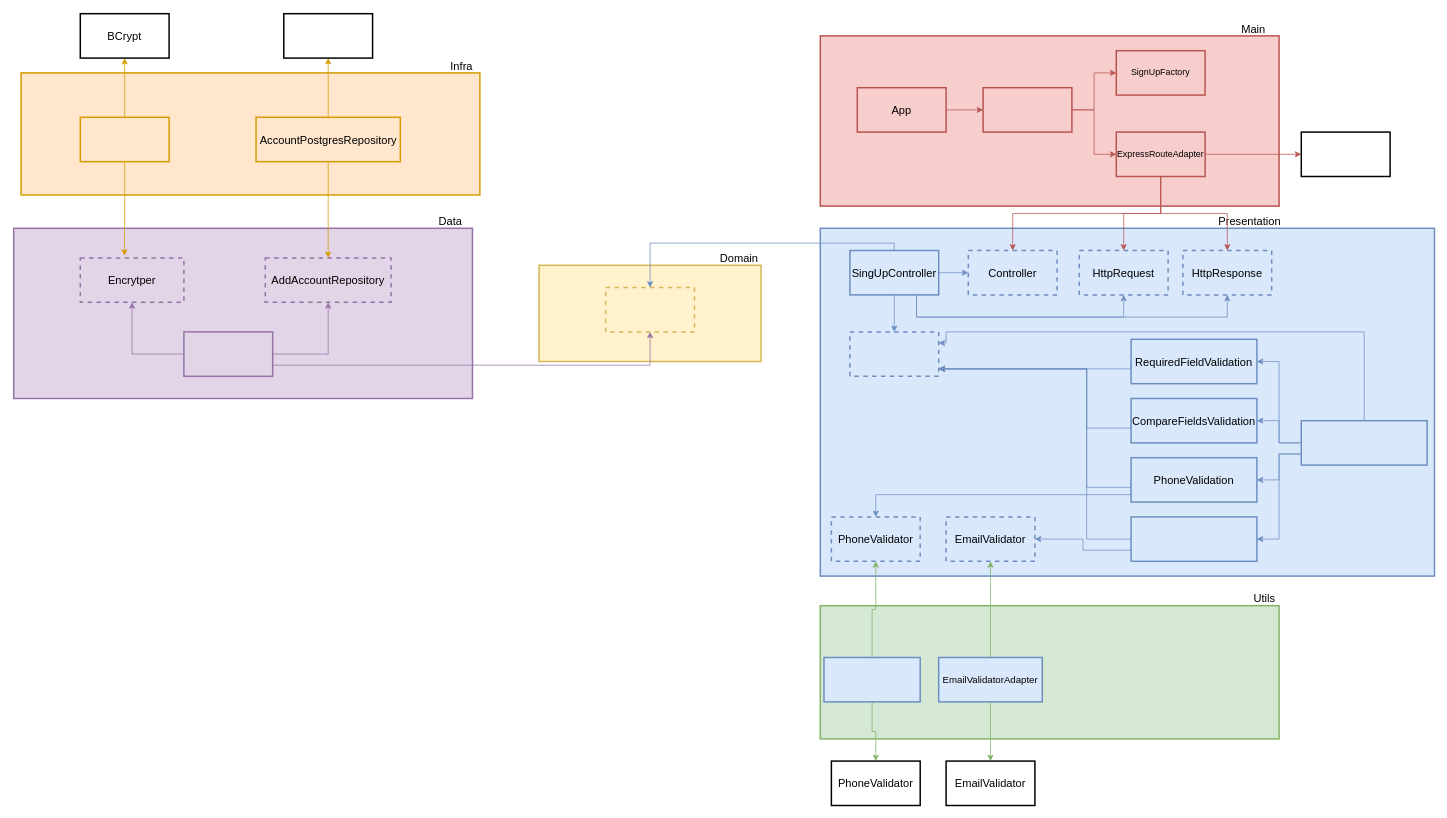
Image size: 1447x818. Some labels were removed from this diagram. The shapes that lost their labels are listed below. From the top down, each one's centre as x and y in pixels, then its label:
At point 328,35: "PostgreSQL".
At point 1027,109: "SignUpRouter".
At point 124,139: "BcryptAdapter".
At point 1345,154: "Express".
At point 650,309: "AddAccount".
At point 228,354: "DbAddAccount".
At point 894,354: "Validation".
At point 1363,442: "ValidationComposite".
At point 1193,539: "EmailValidation".
At point 872,679: "PhoneValidatorAdapter".
